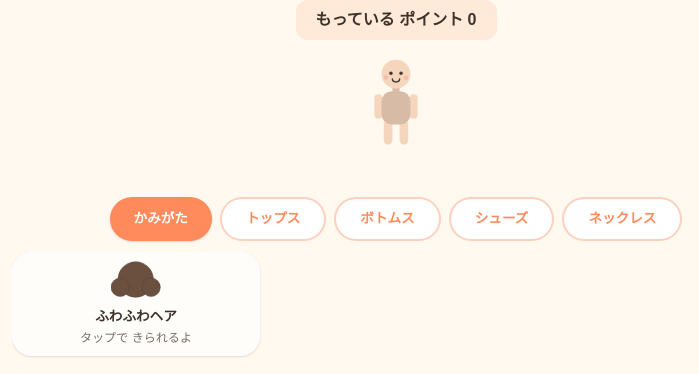
Scenario: puts the look back when the server refuses to save it
This screenshot has width=699, height=374.
What coordinates should you click on to do the following:
click the button "ふわふわヘア タップで きられるよ"
I would click on:
 (136, 304)
Its box is top-left (12, 252), bottom-right (260, 356).
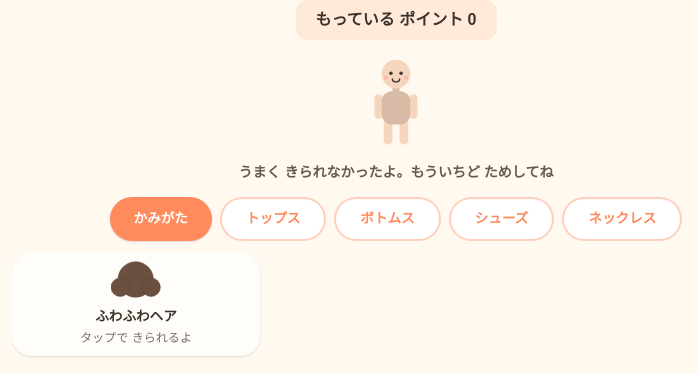
Now the text "うまく きられなかったよ。もういちど ためしてね" is shown, box top-left (238, 162), bottom-right (554, 186)
